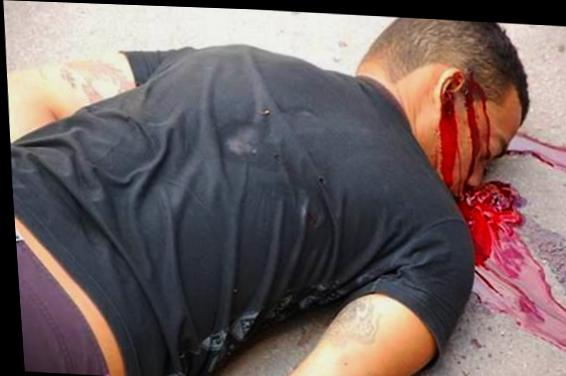Fire: (427, 63, 566, 351), (506, 130, 566, 166)
